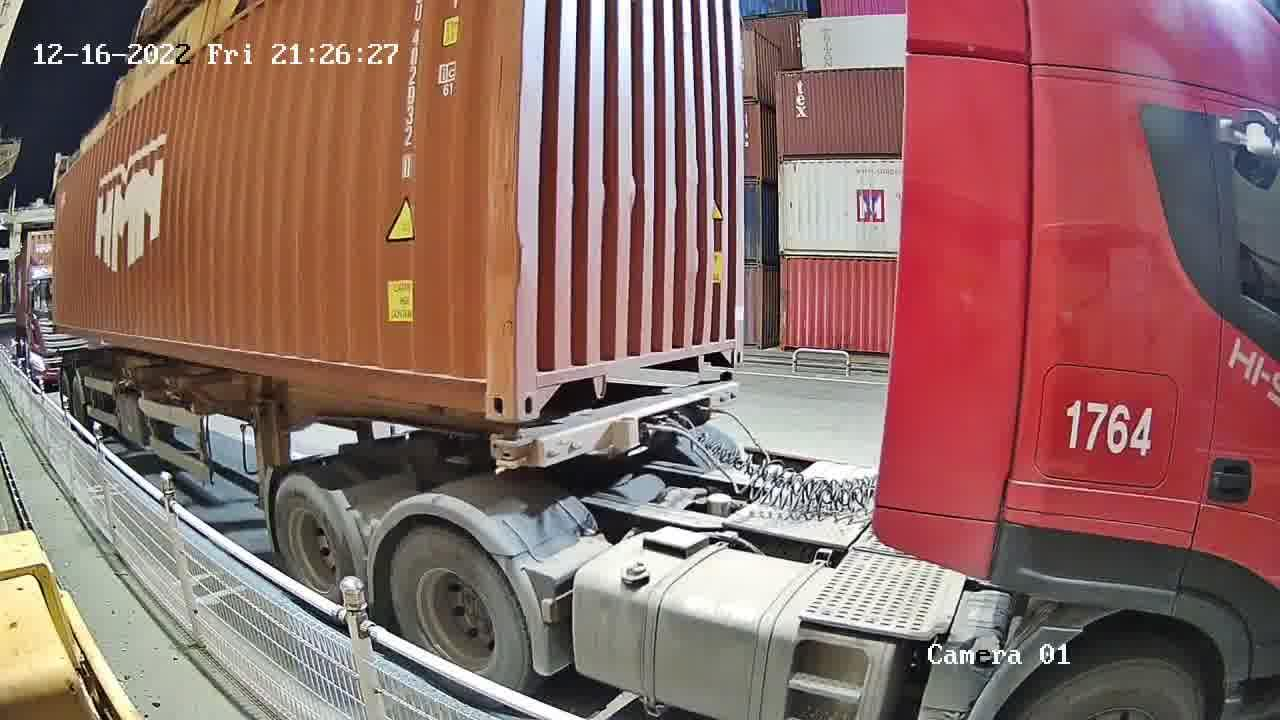Chassis: (492, 375, 739, 466)
Cone: (492, 455, 528, 479)
Container: (518, 325, 746, 425)
Hole_L: (514, 341, 558, 423)
Hole_R: (449, 345, 516, 423), (718, 323, 744, 370)
Tire: (389, 531, 532, 695), (275, 476, 357, 606)
